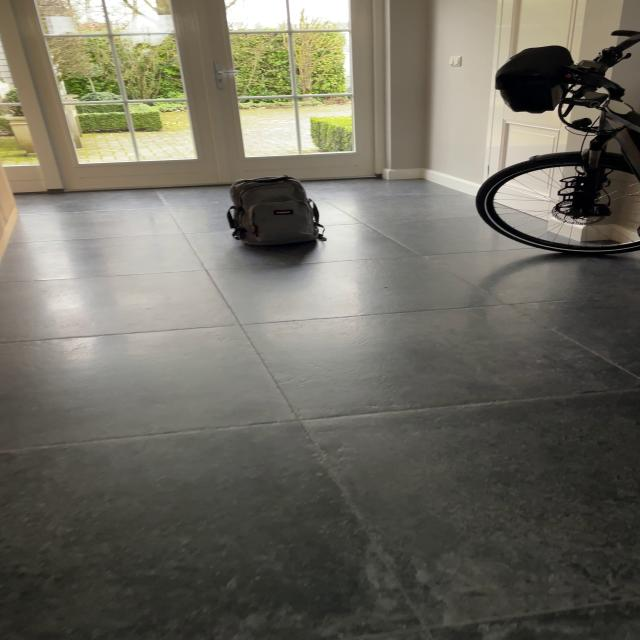backpack: (219, 172, 324, 249)
